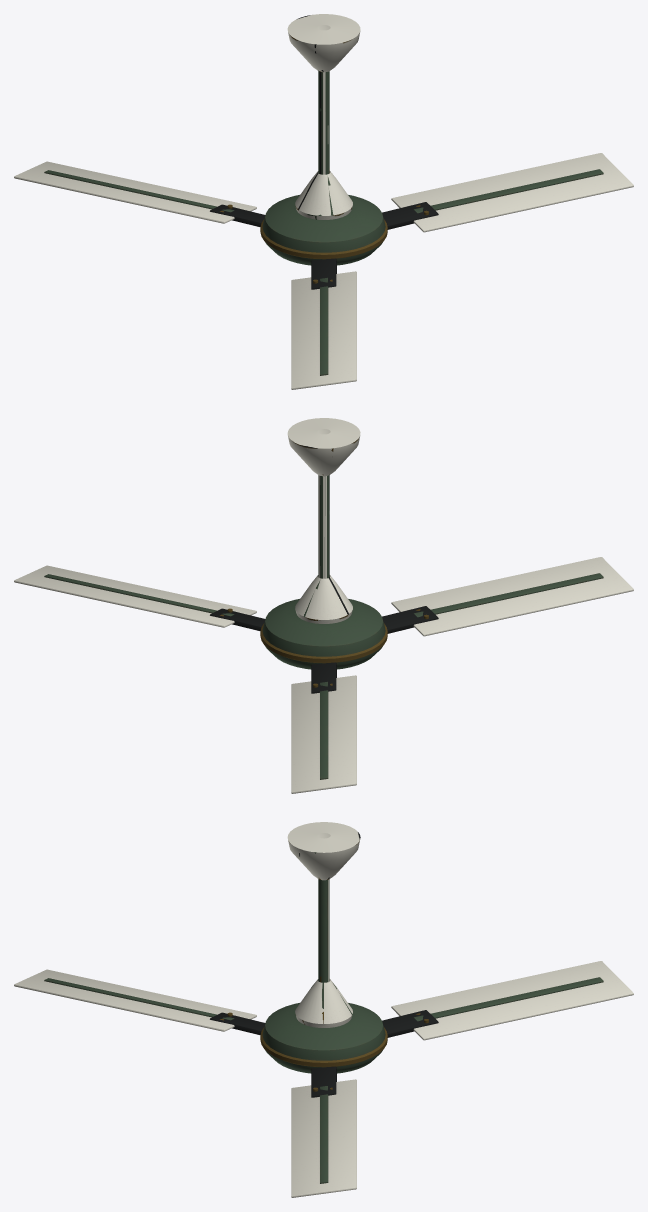
File: CTCC_LOC02_CeilingFan.fbx
3 renders of one model, top to bottom at view 1: azimuth 30°, elevation 25°; view 2: azimuth 150°, elevation 25°; view 3: azimuth 270°, elevation 25°, orthographic.
Visible parts, largest first — view 1: FanRotor, FanMount; view 2: FanRotor, FanMount; view 3: FanRotor, FanMount.
Part boxes in pixels (bbox=[...]): FanRotor: bbox=[14, 153, 633, 389]; FanMount: bbox=[287, 14, 360, 219]; FanRotor: bbox=[14, 557, 633, 793]; FanMount: bbox=[287, 418, 360, 623]; FanRotor: bbox=[14, 961, 633, 1197]; FanMount: bbox=[287, 822, 360, 1027].
Size of the model in its own units: 1.15 by 0.531 by 1.32.
